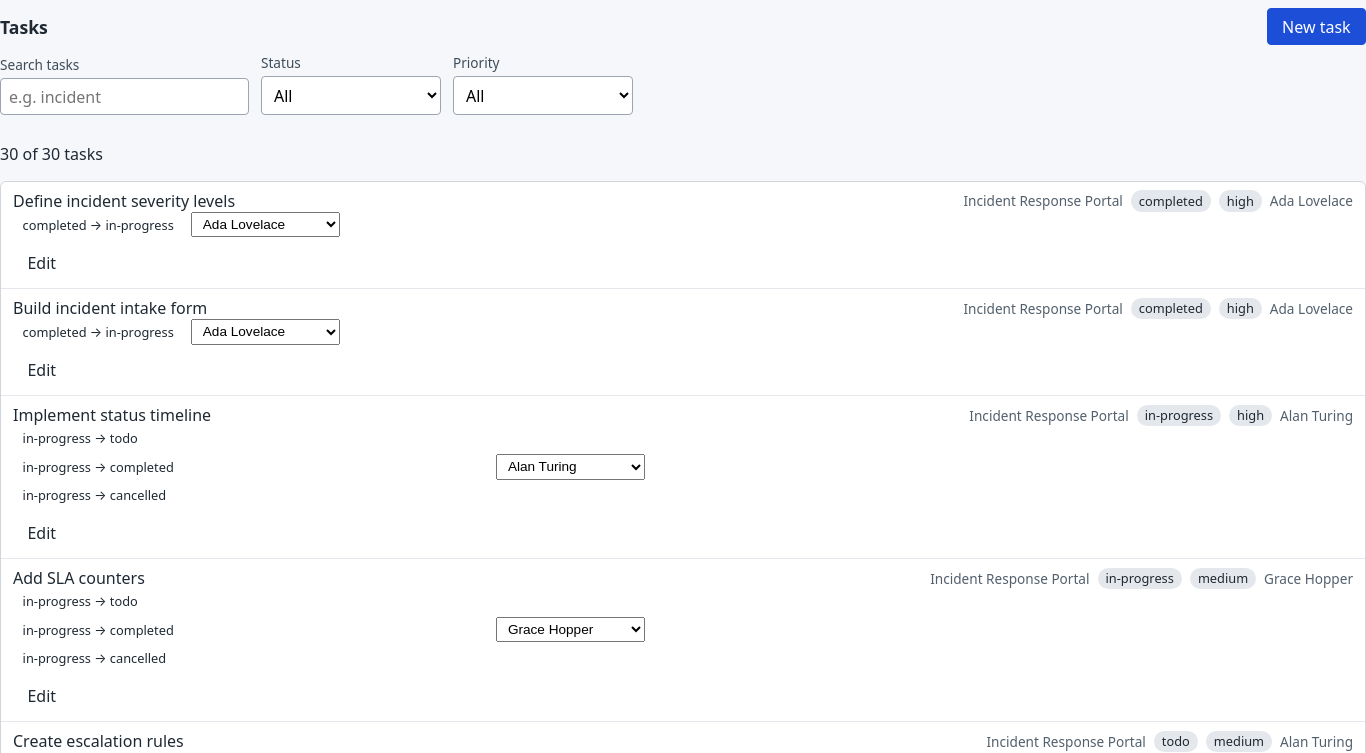
Test: TasksPage — create (TSK-CREATE) › creates a task with default priority medium and shows it in the list
Click the button "New task" at (1316, 27), box [1267,8,1365,45]
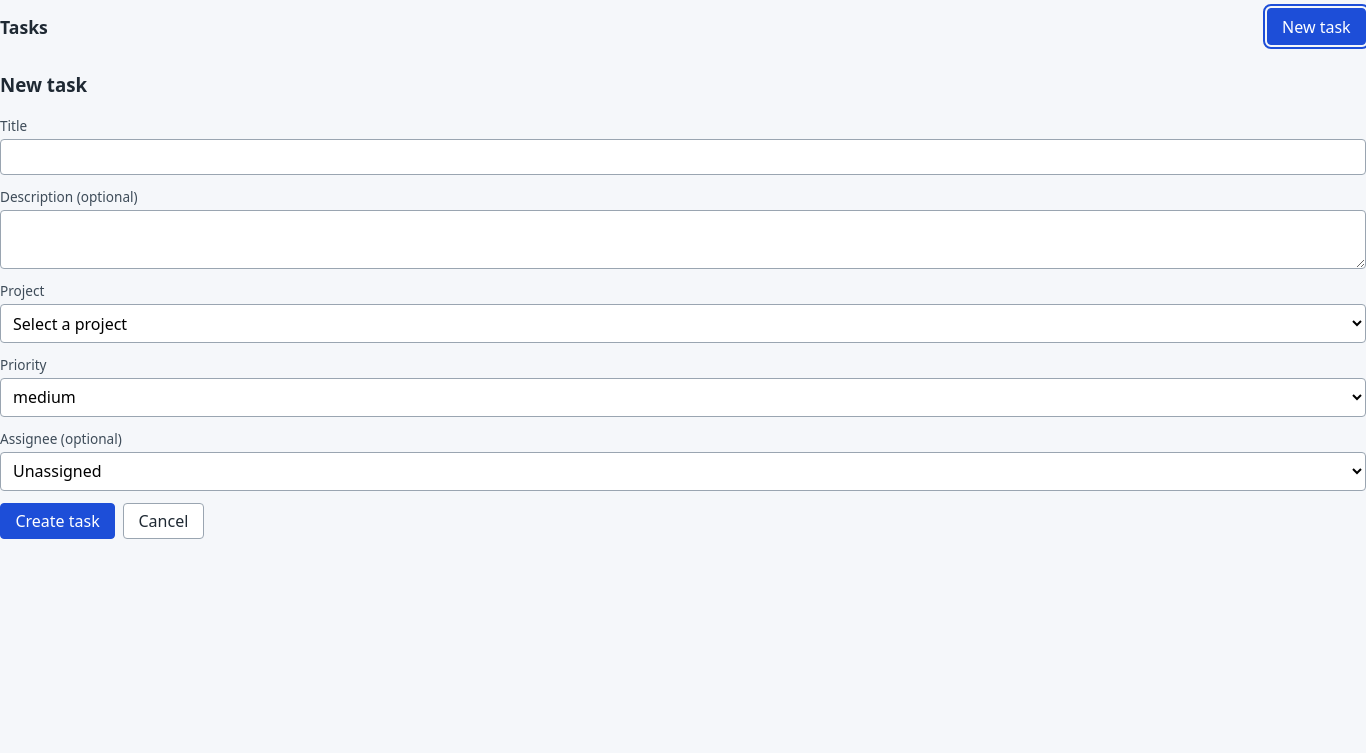
Type "Investigate incident backlog" into the field labelled "Title" at (683, 157), box [0,139,1365,175]
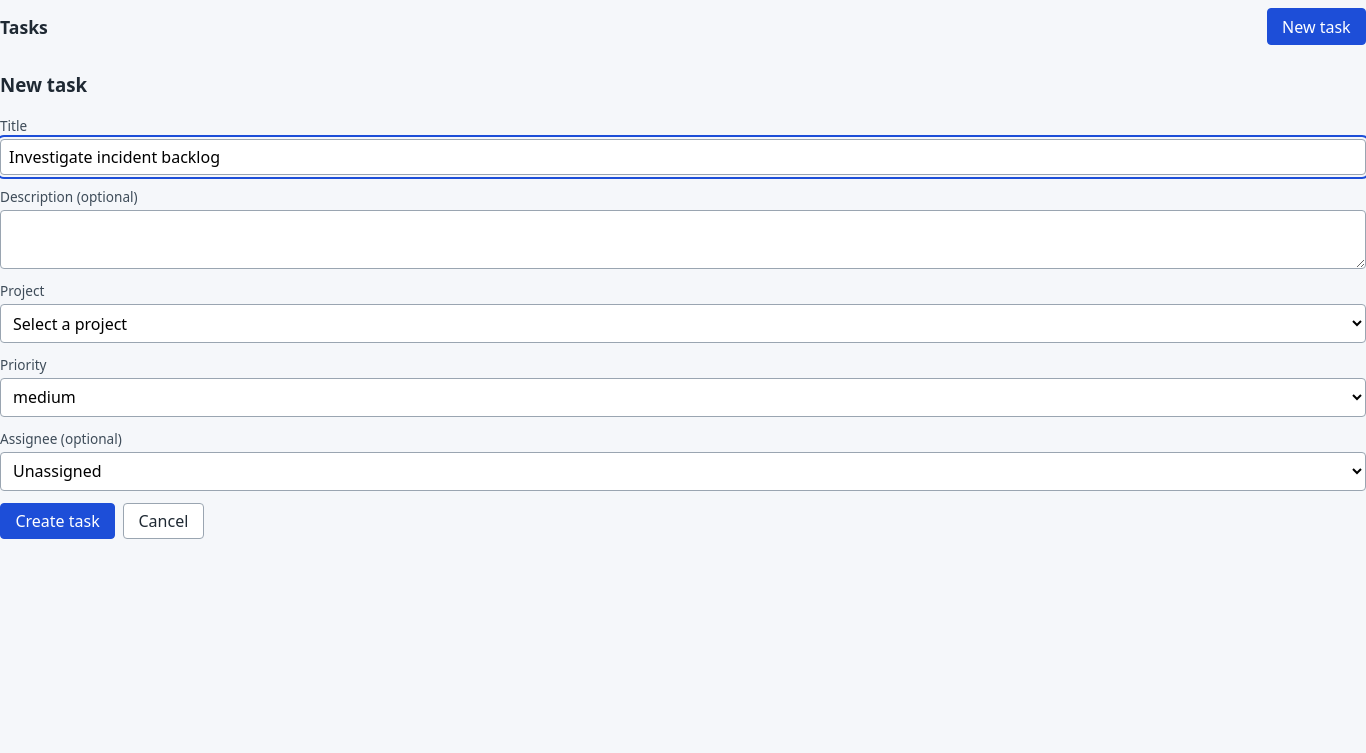
Select "Incident Response Portal" in the dropdown labelled "Project" at (683, 324), box [0,304,1365,343]
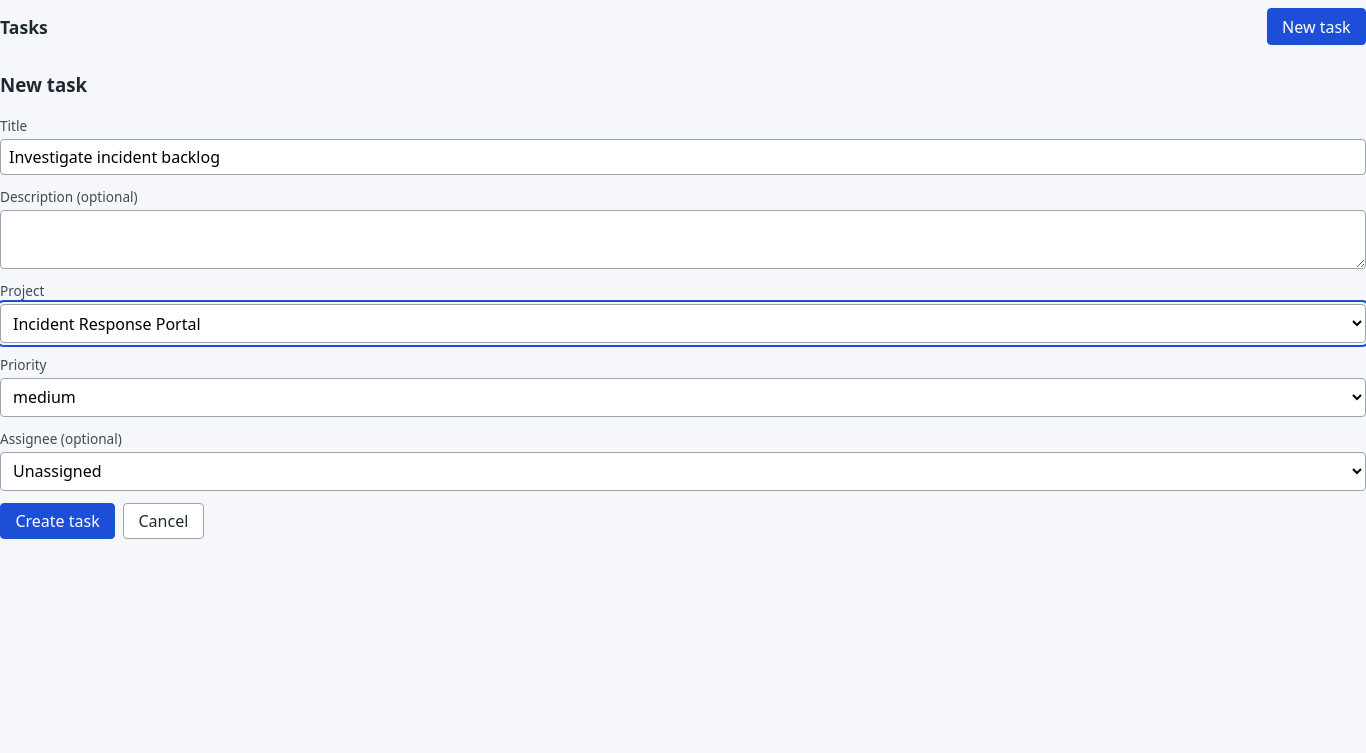
Now the dropdown labelled "Priority" shows "medium", box [0,378,1365,417]
Click the button "Create task" at (58, 521), box [0,502,115,539]
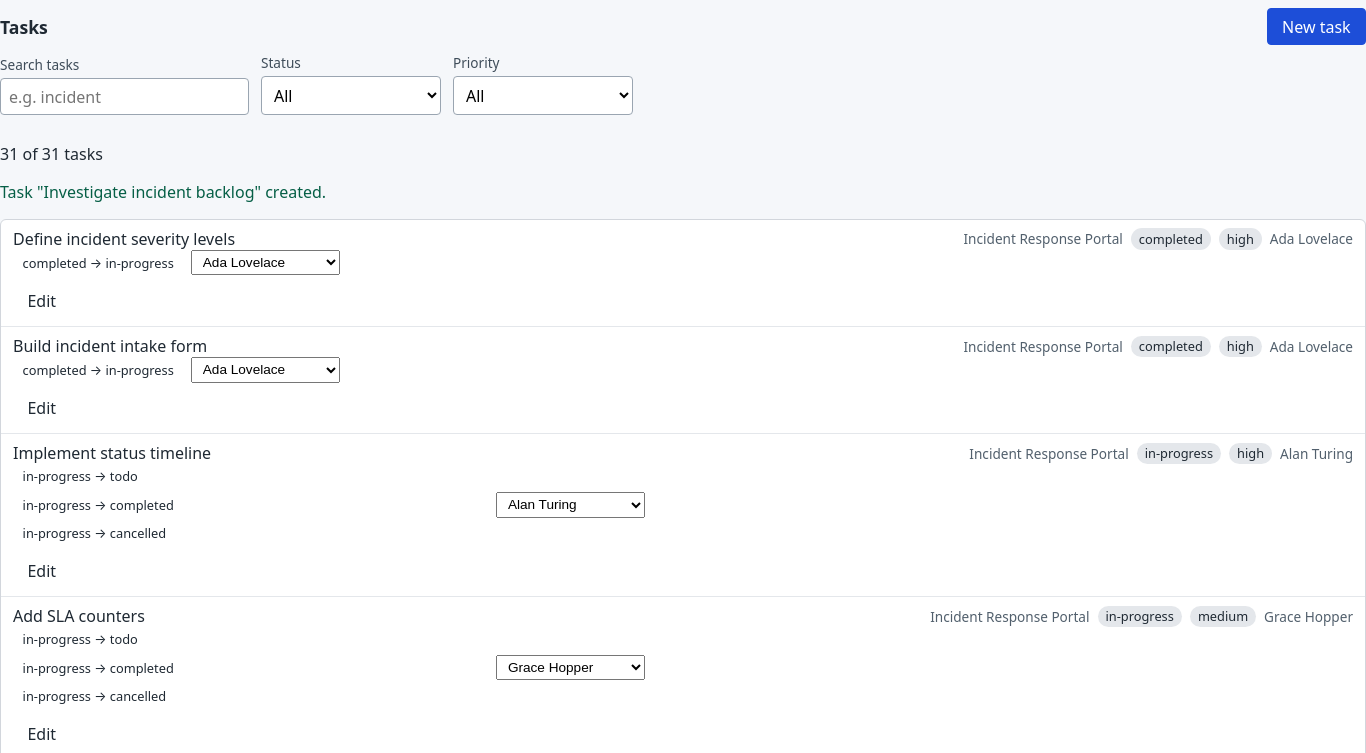
Now the text "31 of 31 tasks" is shown, box [0,143,103,165]
Now the text "Task \"Investigate incident backlog\" created." is shown, box [0,181,326,203]
Now the text "medium" is shown, box [1190,606,1256,627]
